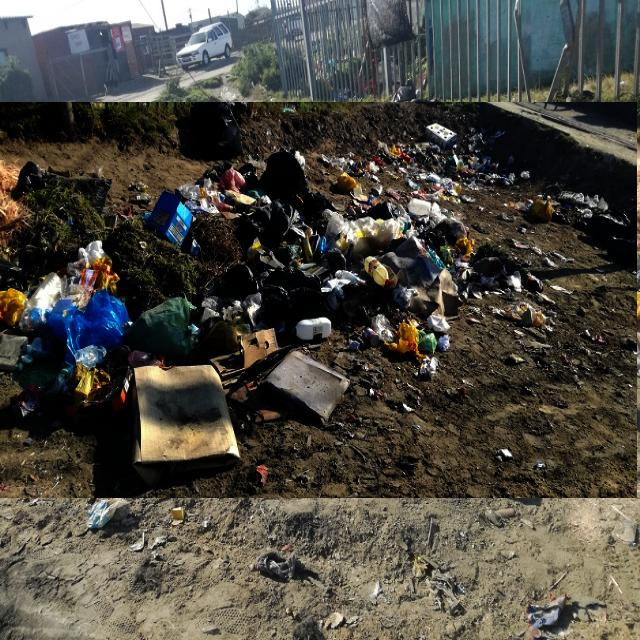dumping: (0, 102, 637, 498)
